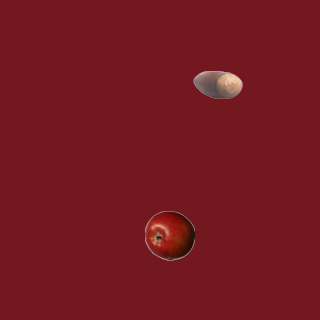Apple Braeburn: (144, 210, 194, 260)
Hazelnut: (192, 59, 242, 109)
